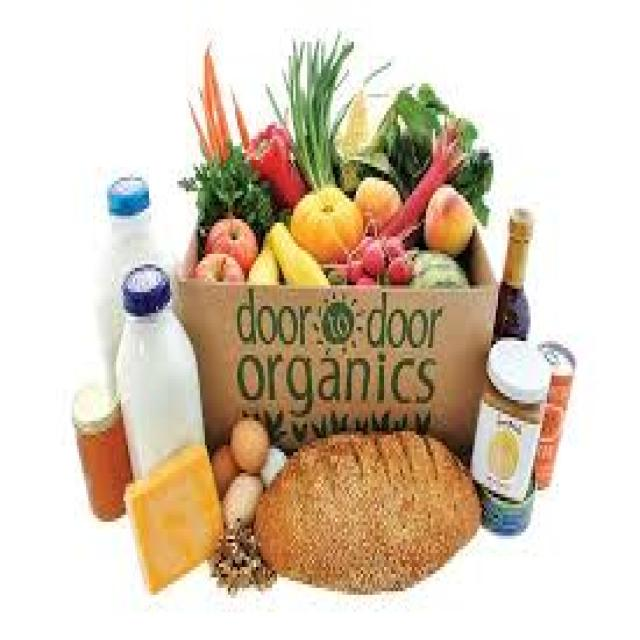biodegradable: (249, 425, 479, 592), (263, 28, 389, 181), (384, 80, 489, 226), (372, 111, 463, 233), (177, 139, 277, 244), (289, 181, 359, 261), (245, 122, 303, 202), (210, 522, 273, 588), (263, 216, 326, 282), (421, 181, 470, 250), (342, 146, 403, 195), (203, 212, 254, 268), (338, 87, 366, 184), (205, 49, 228, 160), (408, 247, 466, 289), (354, 174, 398, 229), (219, 470, 263, 522), (196, 87, 224, 167), (228, 414, 265, 473), (186, 101, 214, 170), (203, 42, 217, 160), (207, 442, 238, 490), (189, 251, 242, 279), (244, 237, 277, 278), (258, 445, 284, 484), (228, 94, 244, 146), (384, 251, 410, 279), (361, 240, 384, 271), (340, 250, 358, 275), (384, 230, 403, 251), (349, 233, 372, 250), (352, 271, 373, 282)
cardboard: (173, 271, 494, 463)
glass: (114, 303, 207, 477), (98, 209, 168, 400), (468, 373, 542, 498), (72, 411, 128, 519), (491, 209, 528, 334)
metal: (531, 338, 573, 491), (477, 477, 533, 529), (121, 261, 168, 313), (107, 167, 147, 212)
